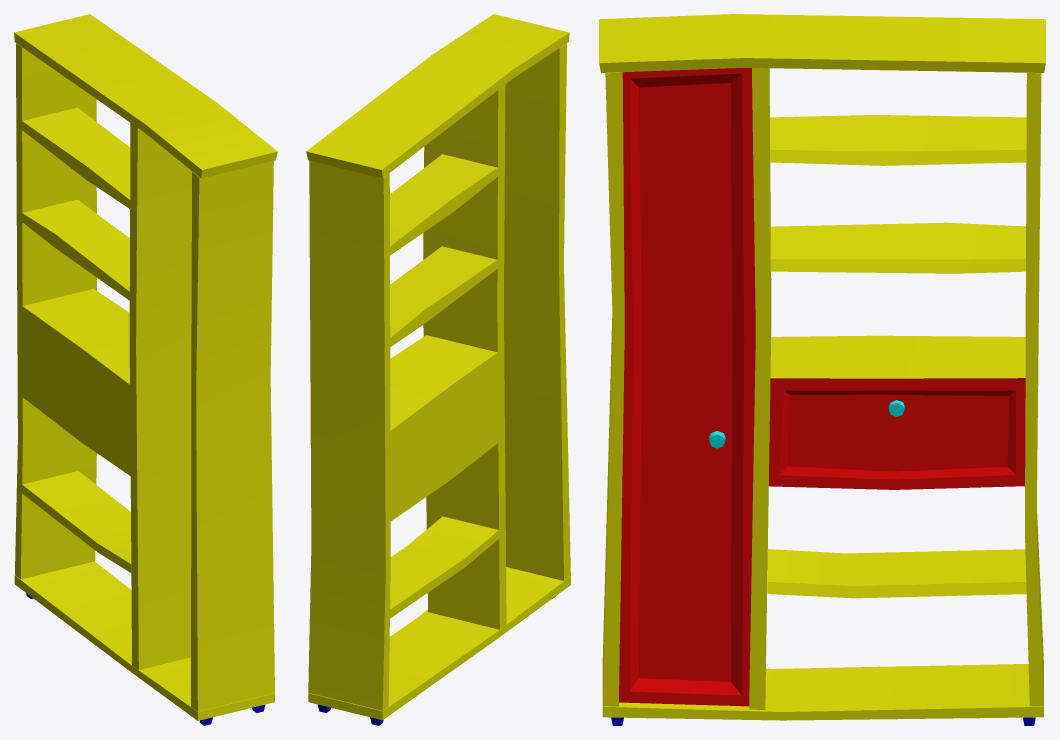
The model's file is LivingRoom_Bookshelf.fbx.
The picture shows the model from 3 angles, left to right: view 1: azimuth 30°, elevation 25°; view 2: azimuth 150°, elevation 25°; view 3: azimuth 270°, elevation 25°; orthographic projection. The views are drawn at different scales.
Visible parts, largest first — view 1: LivingRoom_Bookshelf; view 2: LivingRoom_Bookshelf; view 3: LivingRoom_Bookshelf.
Boxes of the visible parts, x1,y1,x2,y2 form: LivingRoom_Bookshelf: (14, 14, 277, 725); LivingRoom_Bookshelf: (306, 14, 570, 725); LivingRoom_Bookshelf: (599, 14, 1045, 725).
Bounding box in the file's own units: 50.67 × 349 × 210.
